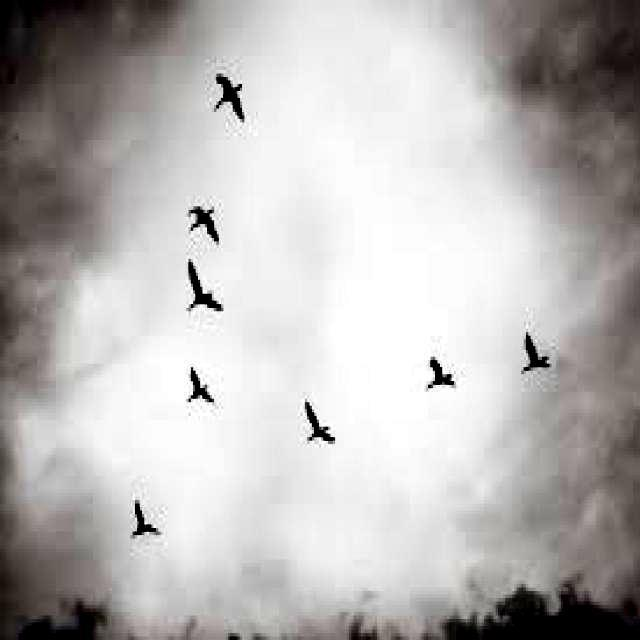bird: (198, 66, 262, 134), (508, 327, 578, 388), (178, 259, 232, 321), (414, 346, 468, 401), (294, 396, 342, 454), (177, 360, 224, 418), (176, 199, 232, 242), (121, 500, 165, 550)
